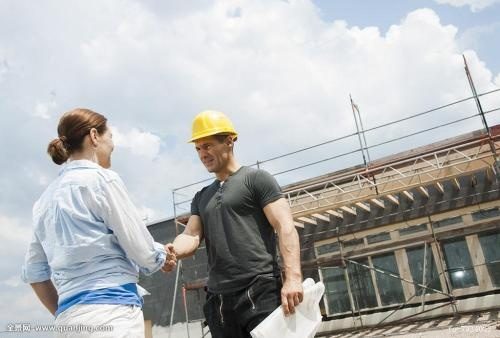none: (58, 108, 116, 173)
yellow: (189, 109, 240, 175)
